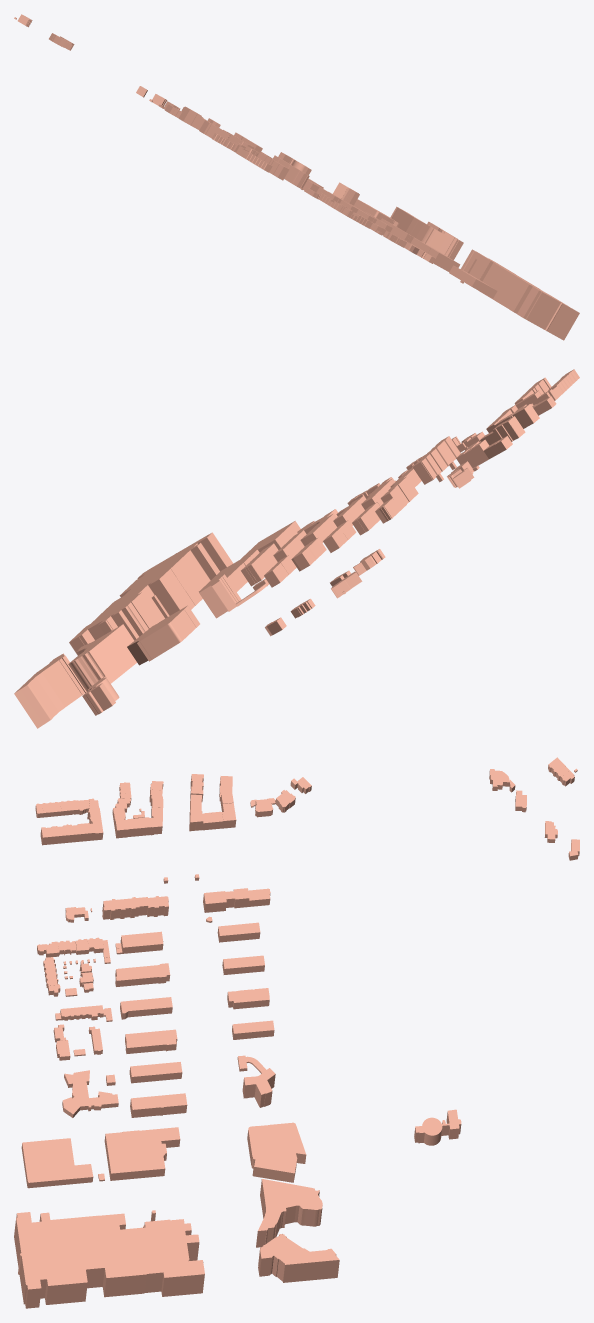
3 views of the same model, one above another, from view 1: azimuth 30°, elevation 25°; view 2: azimuth 150°, elevation 25°; view 3: azimuth 270°, elevation 25° (orthographic). The views are drawn at different scales.
Size of the model in its own units: 585 by 405 by 615.
